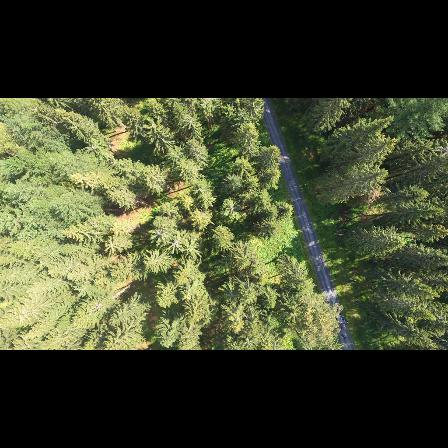Sick: (164, 235, 188, 255)
